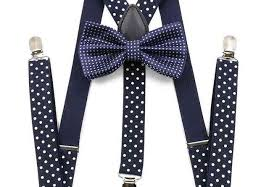bow: (74, 16, 191, 82)
